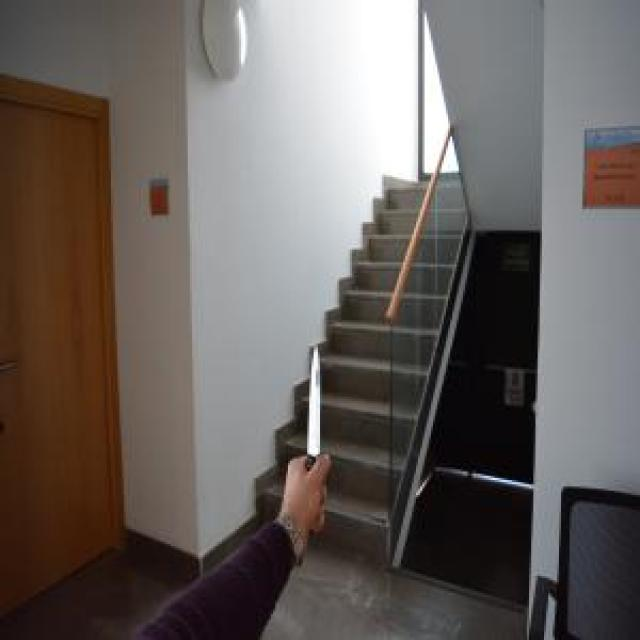knife: (294, 337, 332, 479)
